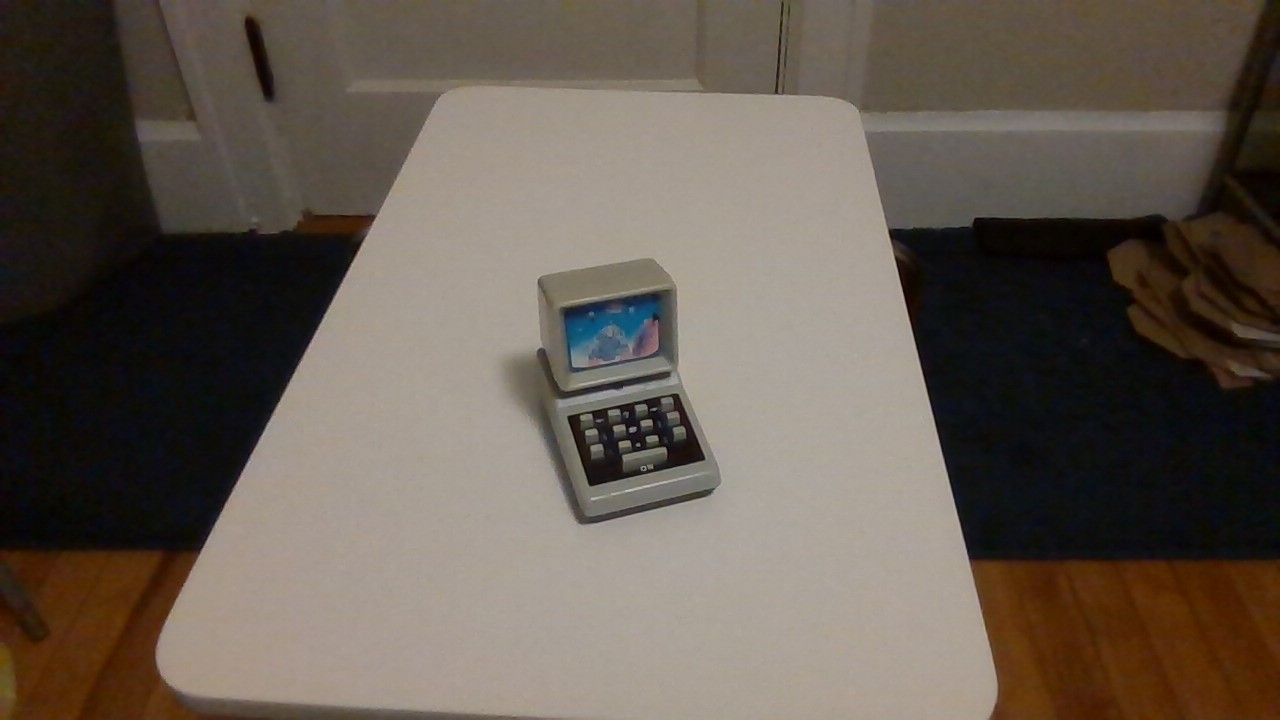Toy: (509, 245, 740, 533)
